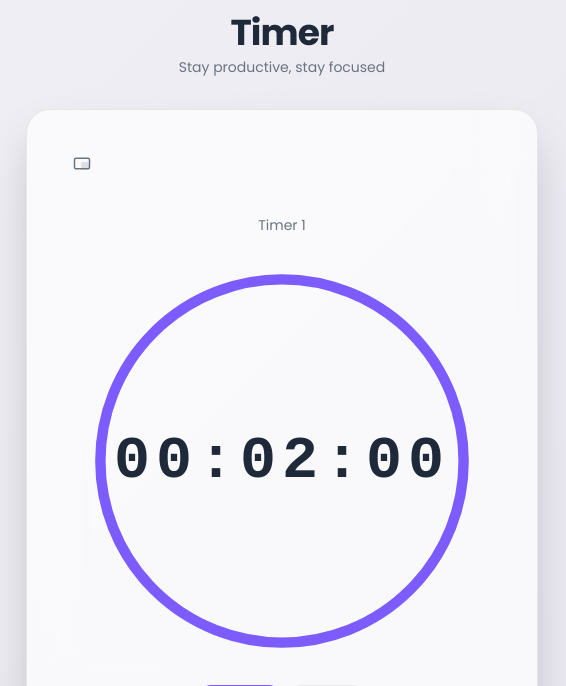
Test: Focus Timer › Timer Label › should save new label on Escape
Step 1. Click the button with aria-label "click to edit label" → (282, 225), box [258,215,306,235]
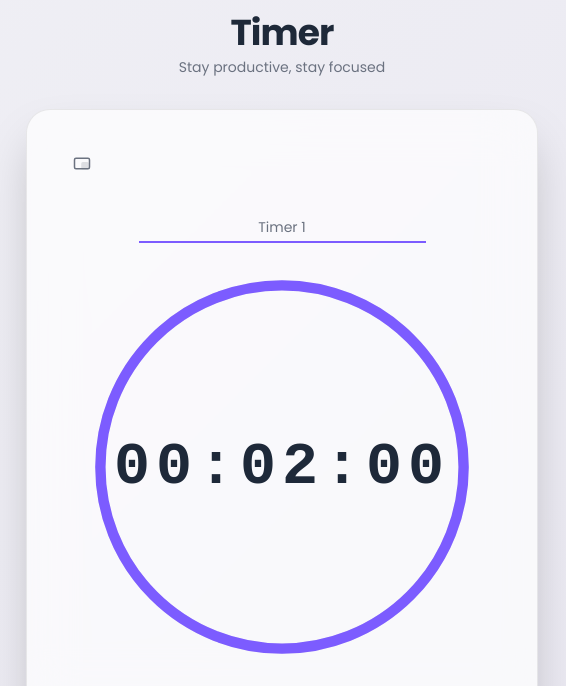
Step 2. Replace the text in the field named "edit timer label" with "Something Else" → (282, 228), box [138,213,426,243]
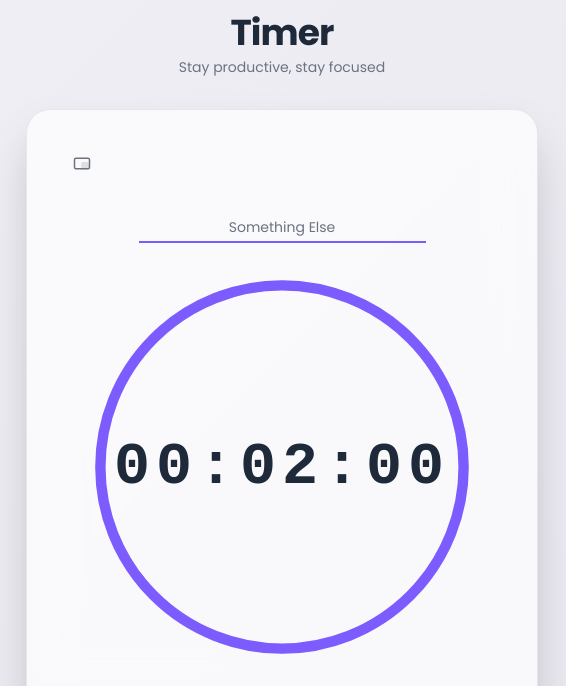
Step 3. Press Escape
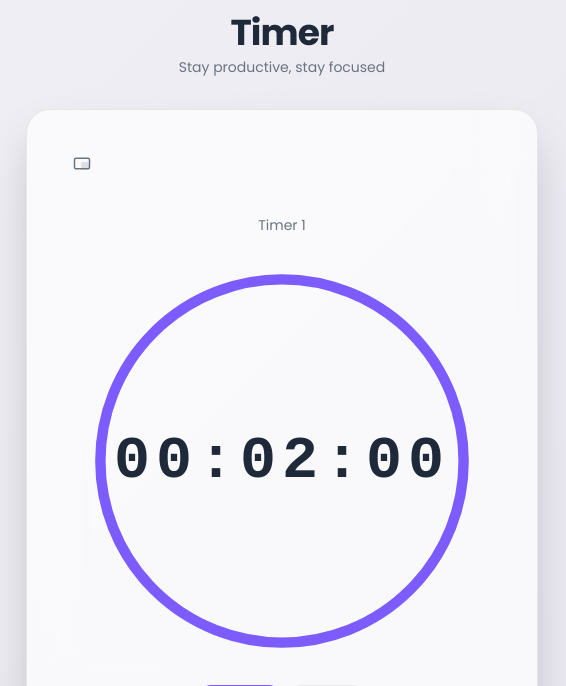
Now the button "Timer 1" is shown, box [258,215,306,235]
